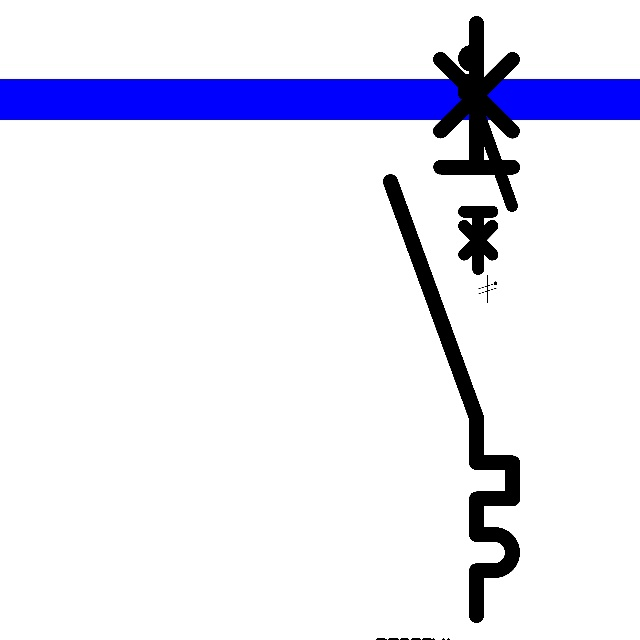interruptor_termomagnetico: (375, 8, 528, 631), (458, 27, 518, 275)
